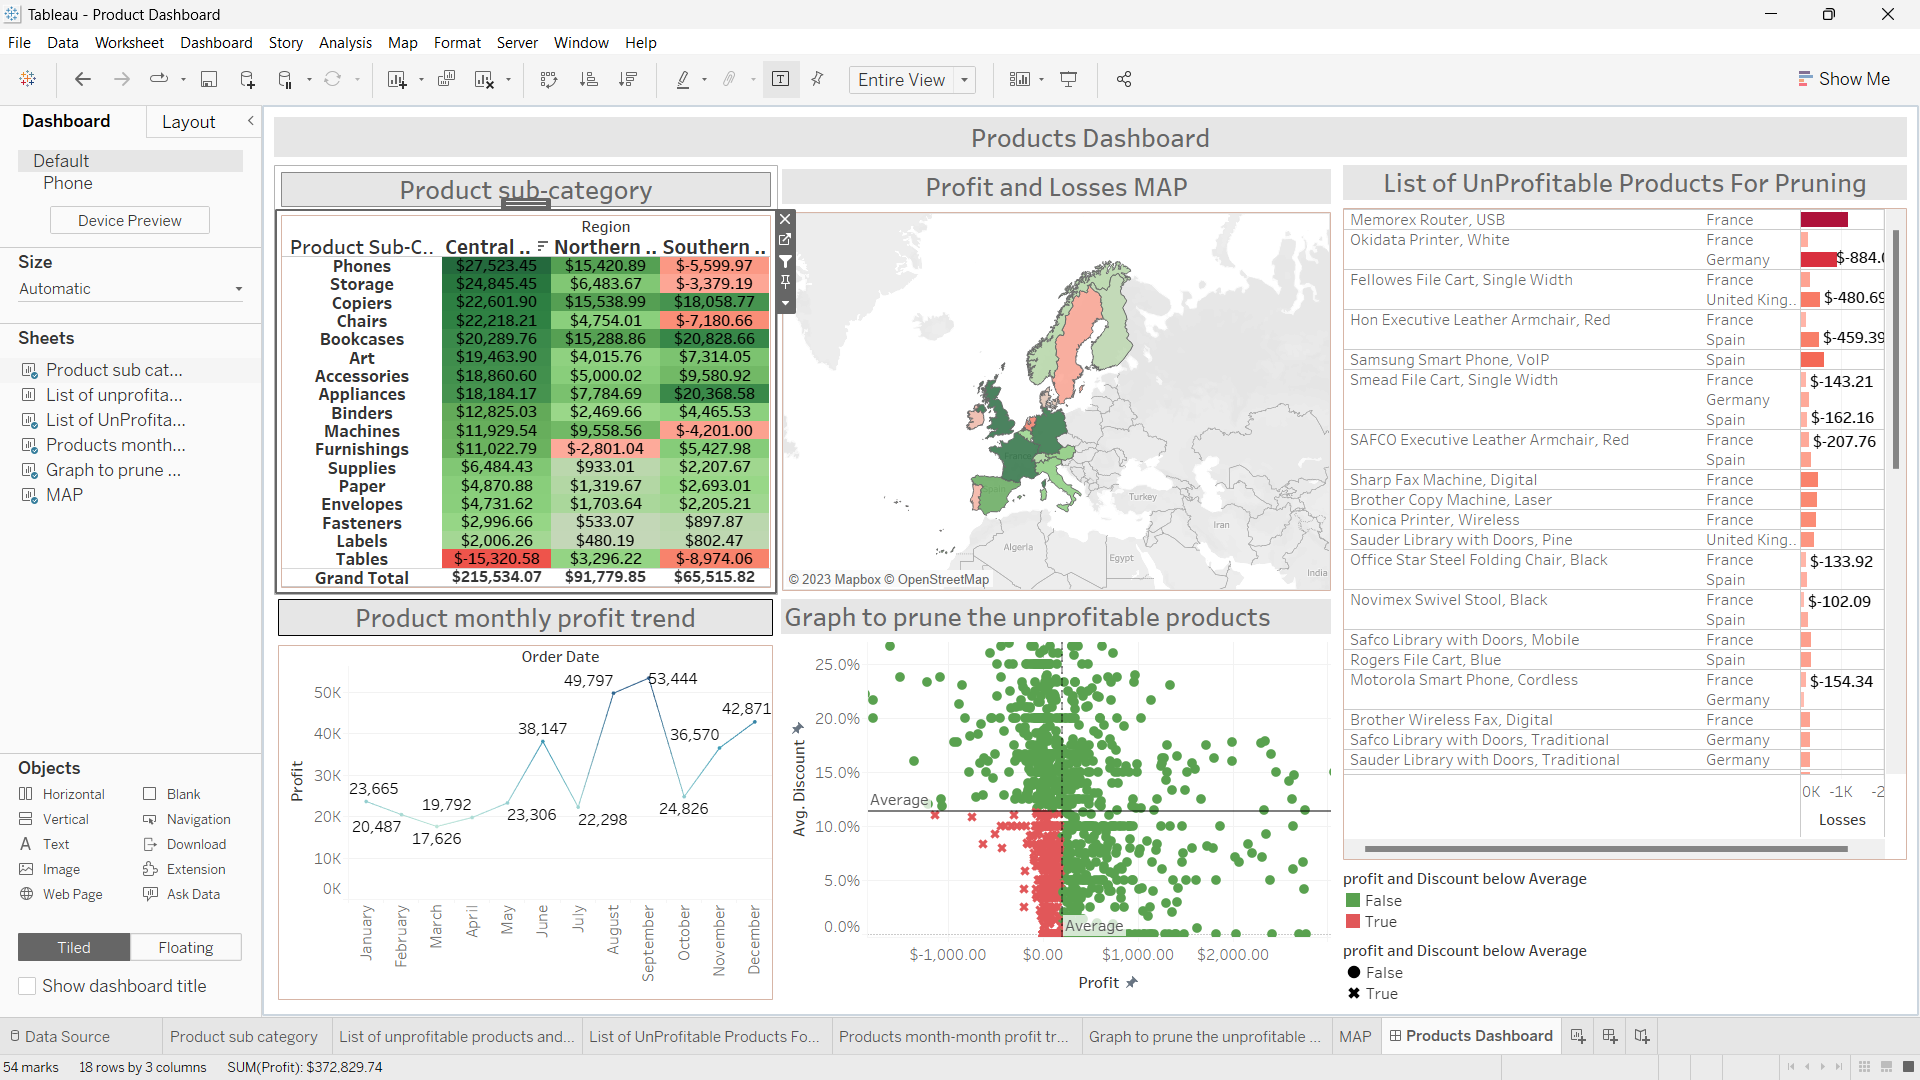

The page's visual inventory and layout, read from the dashboard file:
{"tool":"tableau","page":{"name":"Products Dashboard","canvas":[1000,1000],"units":"permille","ordinal":0},"visuals":[{"type":"text","box":[4.8,8.8,990.3,52.7]},{"type":"text","box":[650,61.5,345.2,47.2]},{"type":"text","box":[311.1,65.8,336.4,47.2]},{"type":"text","box":[9.1,69.1,300.3,47.2]},{"type":"worksheet","title":"List of UnProfitable Products For Pruning","mark":"Bar","rows":["Product Name","Country/Region"],"cols":["Profit"],"box":[650,108.7,345.2,724.5]},{"type":"worksheet","title":"MAP","mark":"Automatic","box":[311.1,113,336.4,425.2]},{"type":"worksheet","title":"Product sub category","mark":"Automatic","rows":["Sub-Category"],"cols":["Region"],"box":[9.1,116.3,300.3,418.5]},{"type":"text","box":[7.2,538.2,303.8,49.8]},{"type":"text","box":[311,538.2,336.5,47.2]},{"type":"worksheet","title":"Graph to prune the unprofitable products","mark":"Automatic","rows":["Discount"],"cols":["Profit"],"box":[311,585.5,336.5,401.4]},{"type":"worksheet","title":"Products month-month profit trend","mark":"Automatic","rows":["Profit"],"cols":["Order Date"],"box":[7.2,588.1,303.8,398.8]},{"type":"legend","title":"Graph to prune the unprofitable products","param":"[federated.1nu9wbl0ly4tzy1cx9fzt0t80pvc].[usr:Calculation_1455788629362044928:nk","box":[650,833.2,345.2,79]},{"type":"legend","title":"Graph to prune the unprofitable products","param":"[federated.1nu9wbl0ly4tzy1cx9fzt0t80pvc].[usr:Calculation_1455788629362044928:nk","box":[650,912.2,345.2,79]}]}

Visuals, with their boxes on the dashboard's canvas, which has no fixed pixel size, in thousandths of its width and height (x1, y1, x2, y2). These are canvas units, not pixel positions in the 1920x1080 screenshot, which may show the page scaled, cropped or inside an application window:
text: [x1=5, y1=9, x2=995, y2=62]
text: [x1=650, y1=62, x2=995, y2=109]
text: [x1=311, y1=66, x2=648, y2=113]
text: [x1=9, y1=69, x2=309, y2=116]
"List of UnProfitable Products For Pruning" worksheet (Bar marks): [x1=650, y1=109, x2=995, y2=833]
"MAP" worksheet: [x1=311, y1=113, x2=648, y2=538]
"Product sub category" worksheet: [x1=9, y1=116, x2=309, y2=535]
text: [x1=7, y1=538, x2=311, y2=588]
text: [x1=311, y1=538, x2=648, y2=585]
"Graph to prune the unprofitable products" worksheet: [x1=311, y1=586, x2=648, y2=987]
"Products month-month profit trend" worksheet: [x1=7, y1=588, x2=311, y2=987]
"Graph to prune the unprofitable products" legend: [x1=650, y1=833, x2=995, y2=912]
"Graph to prune the unprofitable products" legend: [x1=650, y1=912, x2=995, y2=991]
